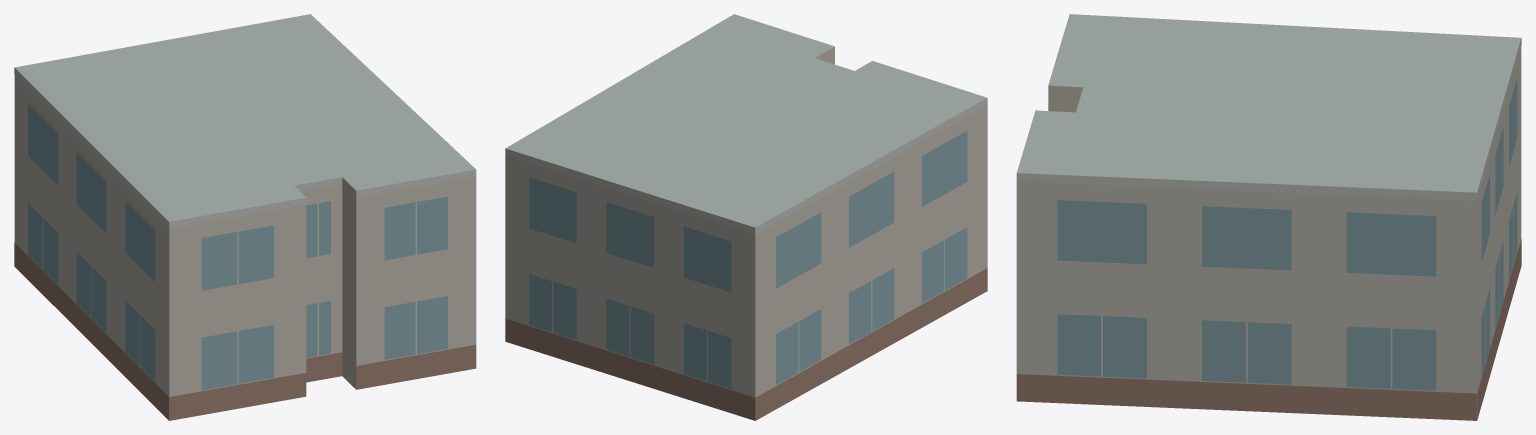
File: survey-upis-32940830.glb
3 views of the same model, side by side, from view 1: azimuth 30°, elevation 25°; view 2: azimuth 150°, elevation 25°; view 3: azimuth 270°, elevation 25° (orthographic). The views are drawn at different scales.
Visible parts, largest first — view 1: survey-upis-32940830.tmp; view 2: survey-upis-32940830.tmp; view 3: survey-upis-32940830.tmp.
Part boxes in pixels (left/top/right/bottom): survey-upis-32940830.tmp: left=14, top=14, right=476, bottom=420; survey-upis-32940830.tmp: left=505, top=14, right=987, bottom=420; survey-upis-32940830.tmp: left=1016, top=14, right=1521, bottom=420.
Bounding box in the file's own units: 11.25 × 6.7 × 13.44.
